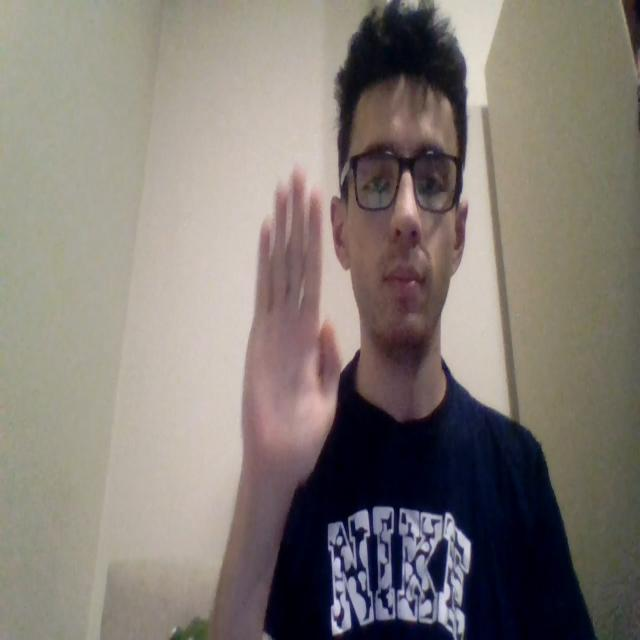hello: (240, 161, 342, 484)
